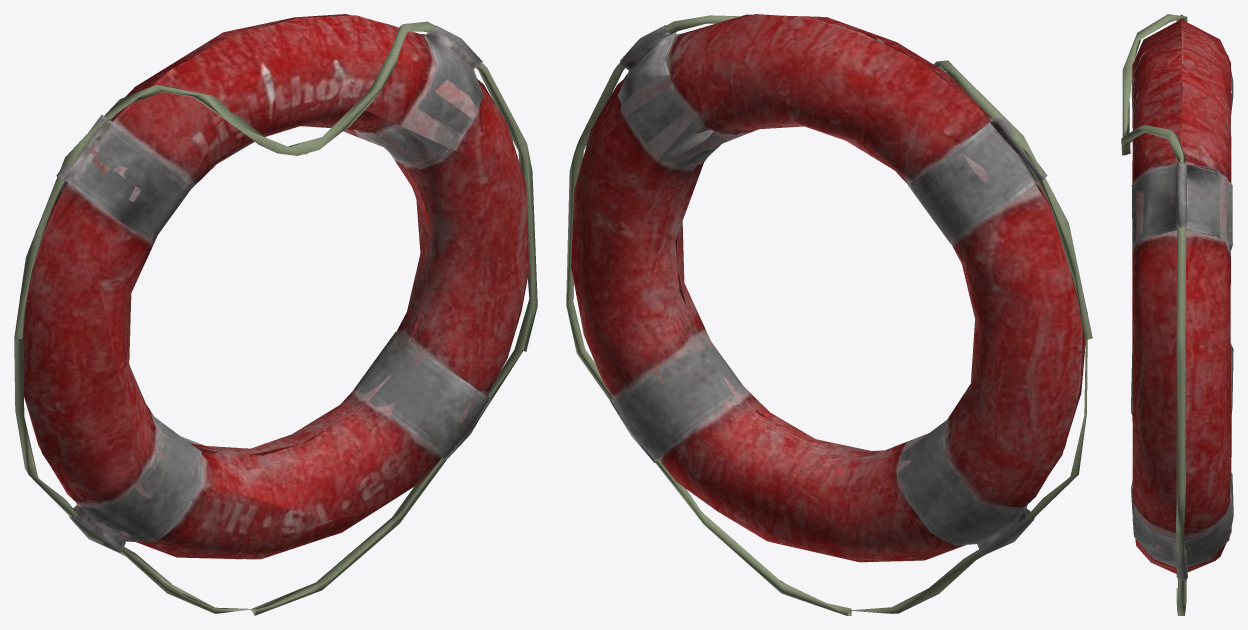
File: lifebuoy_1k.gltf.lod.glb
The picture shows the model from 3 angles, left to right: view 1: azimuth 30°, elevation 25°; view 2: azimuth 150°, elevation 25°; view 3: azimuth 270°, elevation 25°; orthographic projection. The views are drawn at different scales.
Parts seen in each view (by area): view 1: lifebuoy; view 2: lifebuoy; view 3: lifebuoy.
Part boxes in pixels (x1,y1,x2,y2): lifebuoy: (14,14,537,615); lifebuoy: (566,14,1092,615); lifebuoy: (1121,14,1233,615).
Bounding box in the file's own units: 0.7859 × 0.842 × 0.1544.
Materials: 1 (1 with a texture image).
